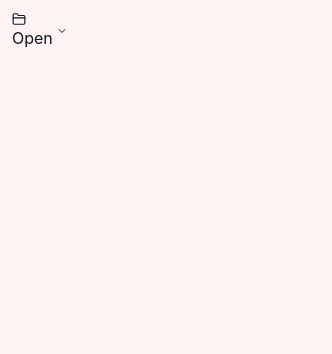
Test: shows the badge on Open ▾ → Add live lift… with previews off
Click the button with test id "open-menu-button" at (62, 31), box x1=52 y1=25 x2=72 y2=37
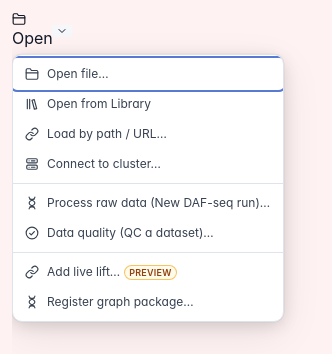
Expected: the menu item with test id "open-menu-add-live-lift" is shown, x1=13 y1=257 x2=283 y2=287
